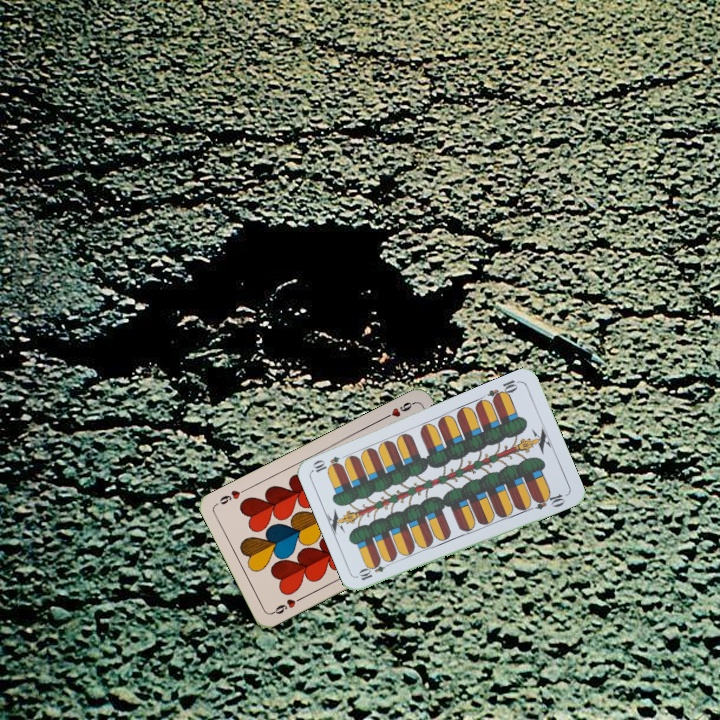E10: (484, 376, 522, 404), (355, 557, 394, 583)
H9: (268, 593, 306, 617), (380, 398, 418, 421)
